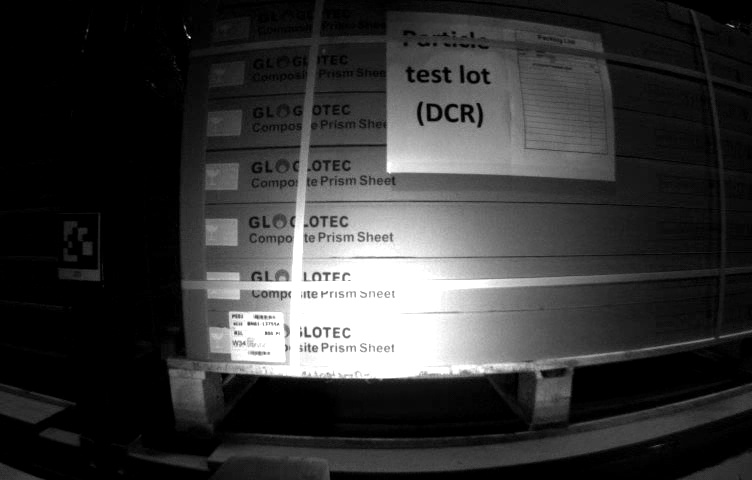True Barcode: (229, 308, 283, 363)
